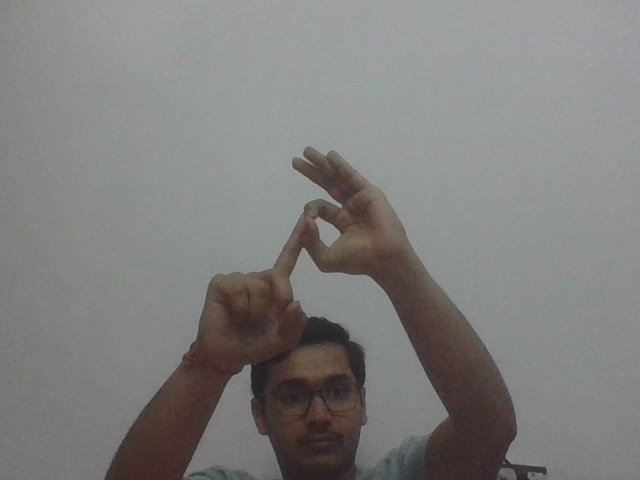Q: (225, 142, 386, 327)
